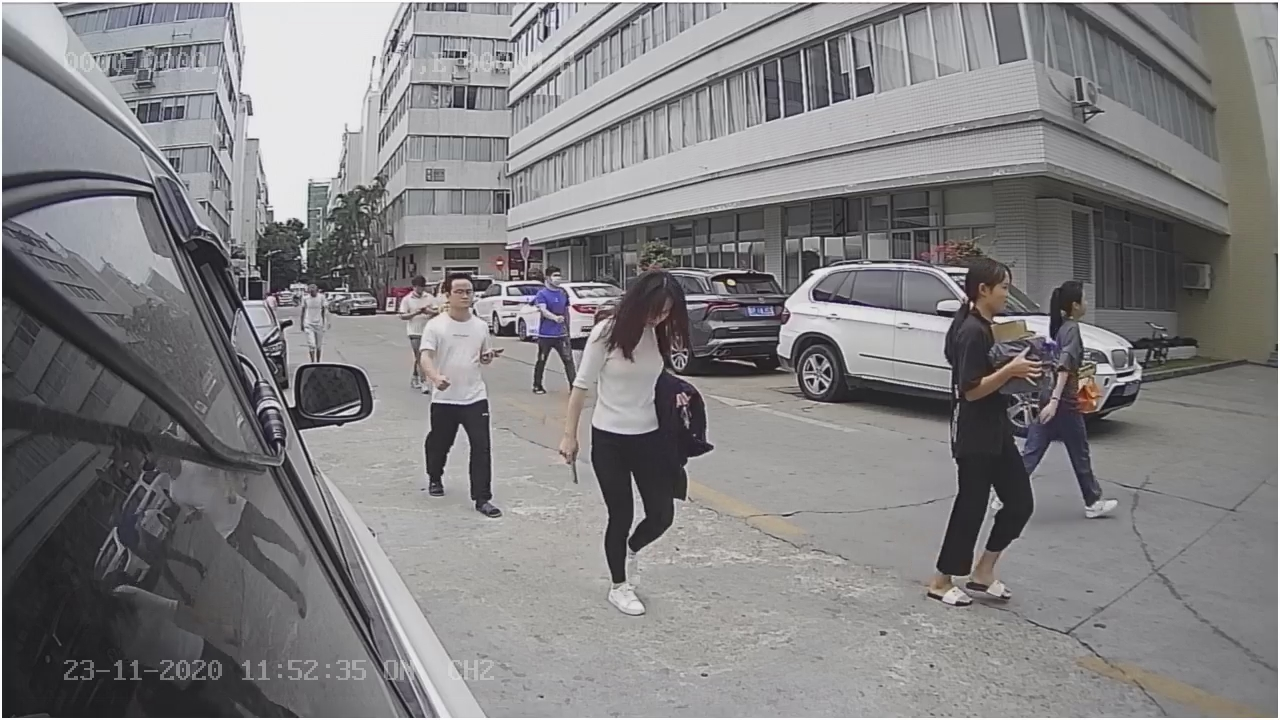person: (563, 276, 681, 620), (421, 267, 498, 514)
